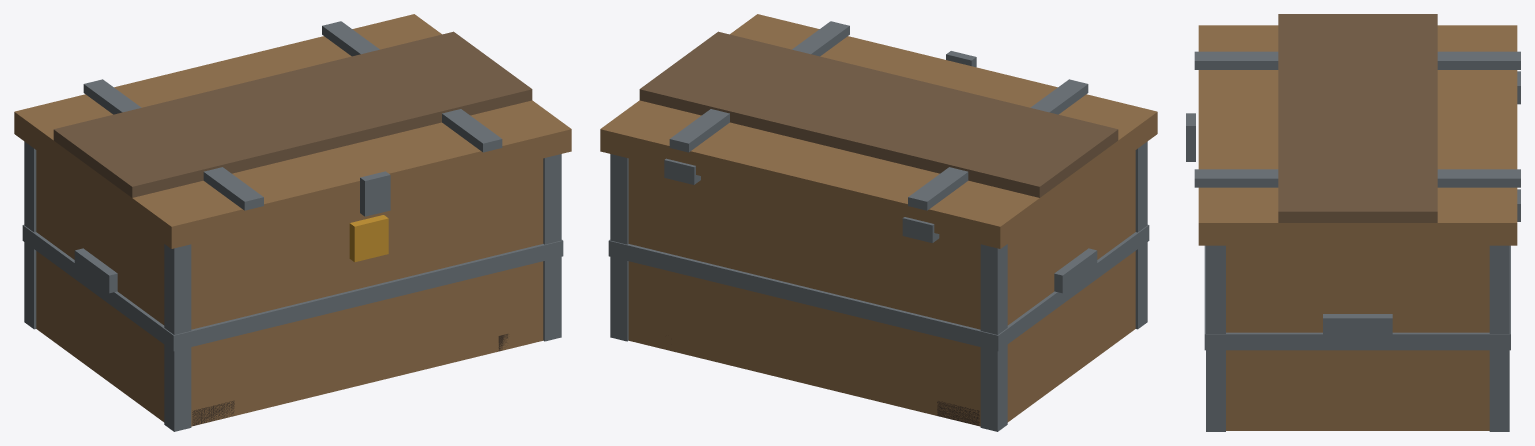
The model's file is base_storage_box.glb.
The picture shows the model from 3 angles, left to right: view 1: azimuth 30°, elevation 25°; view 2: azimuth 150°, elevation 25°; view 3: azimuth 270°, elevation 25°; orthographic projection.
Parts seen in each view (by area): view 1: base_storage_box, lid; view 2: base_storage_box, lid; view 3: lid, base_storage_box.
Boxes of the visible parts, x1,y1,x2,y2 form: base_storage_box: (22, 141, 563, 431); lid: (14, 14, 571, 248); base_storage_box: (608, 141, 1149, 431); lid: (600, 14, 1157, 248); lid: (1186, 14, 1520, 245); base_storage_box: (1204, 245, 1510, 431).
Size of what is drawn, in the model's own units: 0.944 by 0.495 by 0.6725.
1 material, 1 textured.
